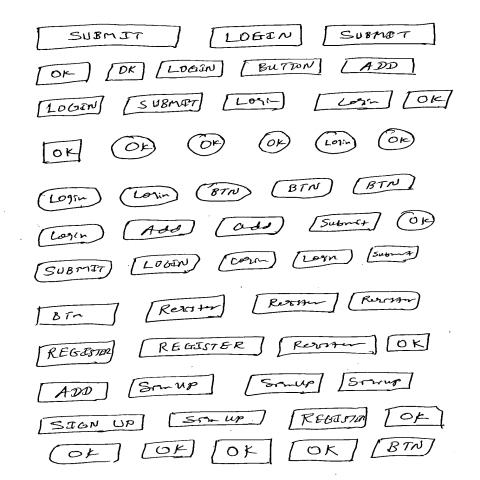Button: (37, 24, 182, 51), (323, 24, 437, 48), (139, 337, 266, 358), (277, 335, 379, 359), (210, 25, 304, 50), (145, 295, 226, 324), (129, 374, 216, 400), (37, 340, 117, 368), (38, 415, 146, 435), (36, 303, 121, 327), (252, 293, 340, 316), (244, 373, 325, 397), (34, 260, 114, 284), (289, 407, 369, 431), (123, 93, 204, 116), (169, 410, 267, 429), (210, 439, 274, 466), (289, 439, 360, 463), (314, 91, 394, 112), (337, 372, 415, 393), (49, 444, 123, 466), (38, 224, 105, 248), (38, 187, 102, 212), (38, 382, 109, 404), (241, 59, 323, 78), (348, 292, 422, 313), (131, 254, 201, 276), (123, 220, 196, 241), (38, 96, 105, 118), (370, 438, 437, 460), (216, 217, 286, 238), (309, 213, 382, 233), (271, 178, 334, 200), (156, 60, 225, 80), (385, 406, 447, 428), (341, 58, 416, 76), (36, 62, 92, 86), (353, 174, 416, 195), (120, 186, 179, 208), (222, 93, 286, 113), (218, 252, 278, 273), (141, 439, 196, 461), (196, 183, 252, 204), (293, 250, 354, 269), (111, 136, 157, 161), (403, 90, 455, 111), (43, 139, 83, 165), (315, 131, 358, 155), (367, 246, 420, 264), (187, 134, 227, 157), (387, 334, 431, 354), (377, 129, 416, 151), (397, 211, 437, 232), (105, 62, 146, 82), (259, 131, 292, 155)
